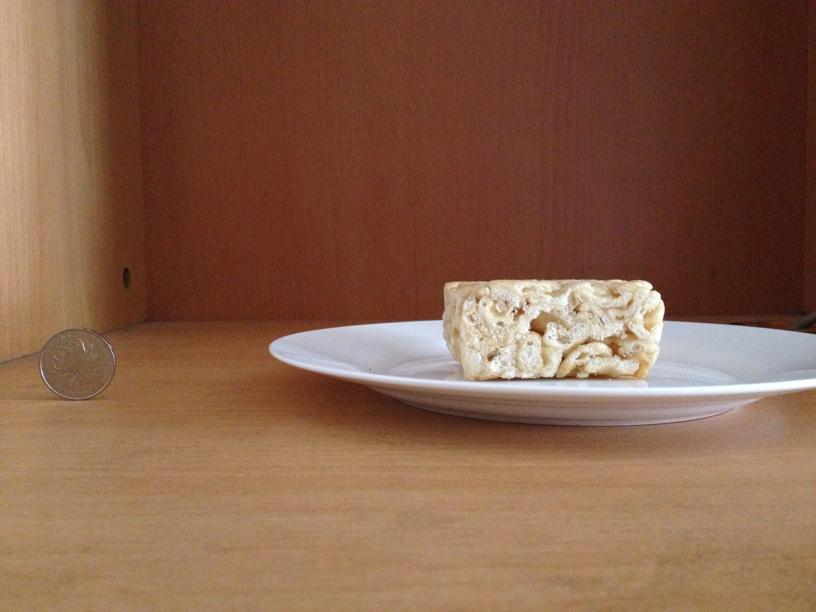coin: (40, 331, 117, 401)
sachima: (438, 273, 661, 379)
